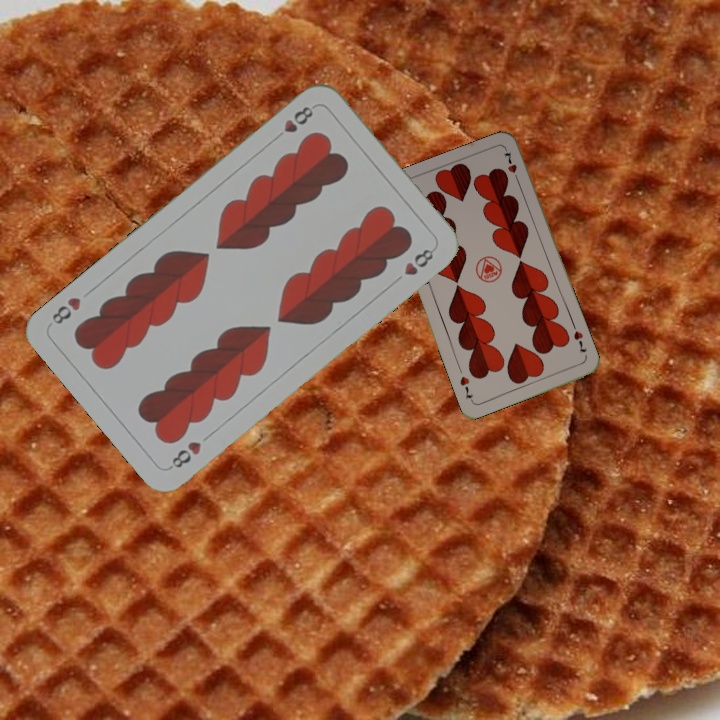H7: (569, 327, 589, 355)
H8: (269, 102, 316, 144), (165, 437, 204, 472)
